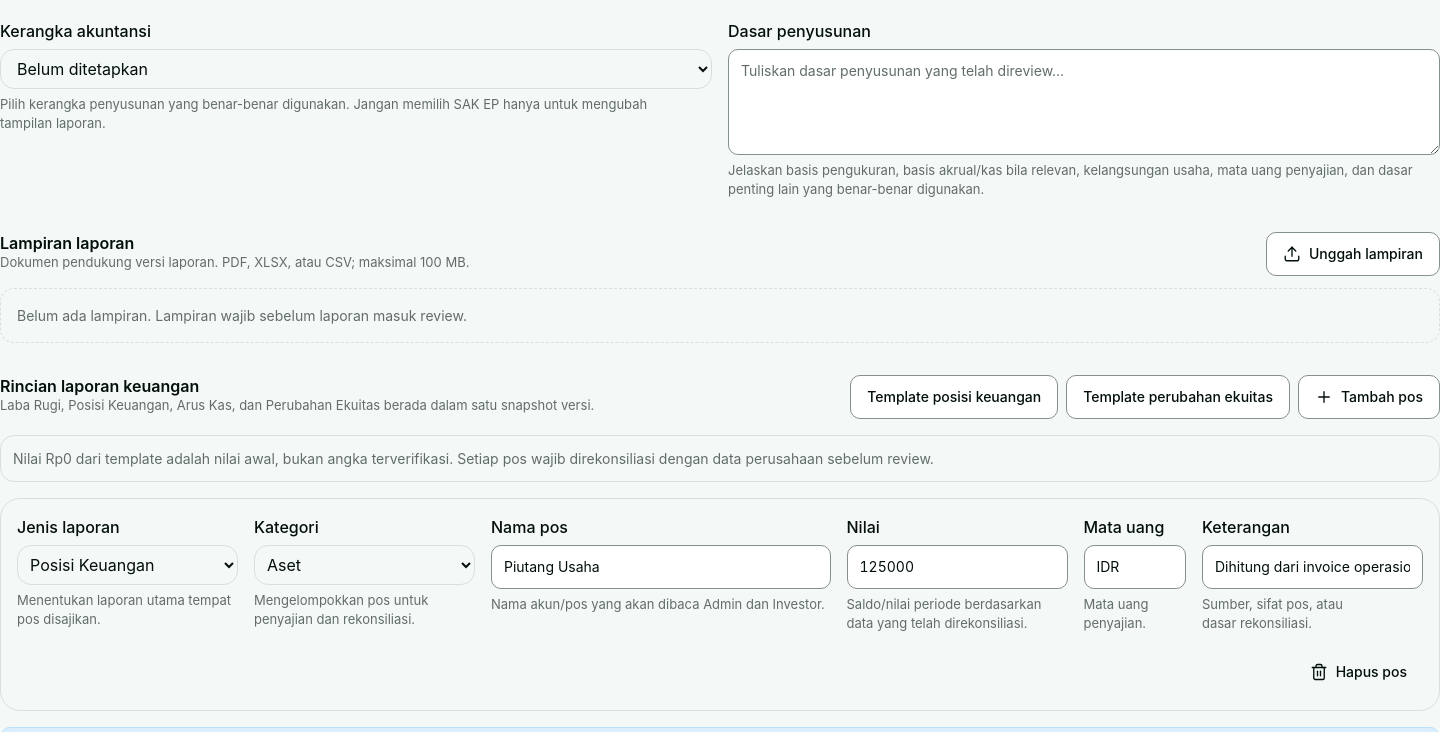
FinancialReportContentEditor balance sheet template › adds only missing balance sheet positions and preserves existing values
The width and height of the screenshot is (1440, 732).
Click the button "Template posisi keuangan" at [954, 397], box [850, 375, 1058, 419]
(page scrolled)
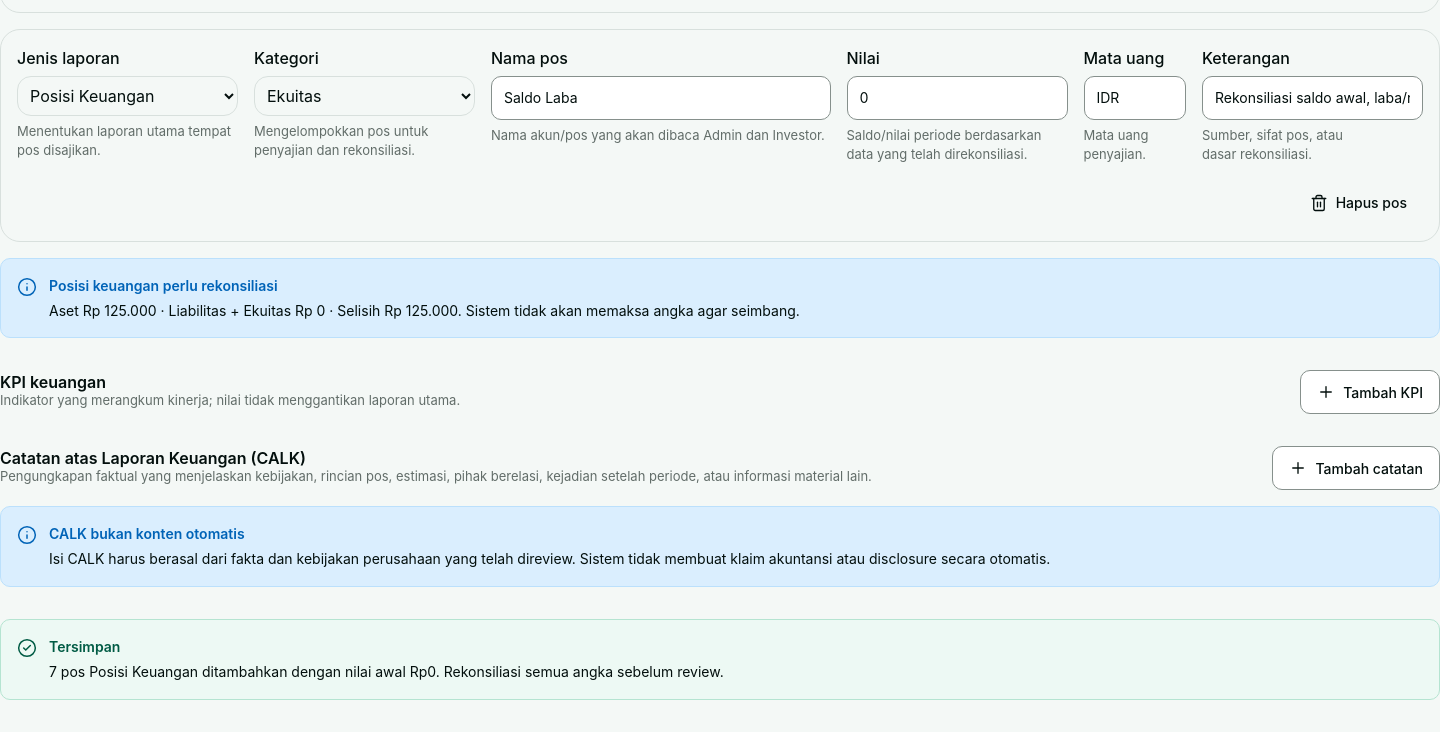
Check: the text "Posisi keuangan perlu rekonsiliasi" is shown, box [49, 277, 278, 294]
Check: the field showing "Saldo Laba" is shown, box [491, 76, 830, 120]
Check: the text "7 pos Posisi Keuangan ditambahkan" is shown, box [49, 663, 724, 680]
